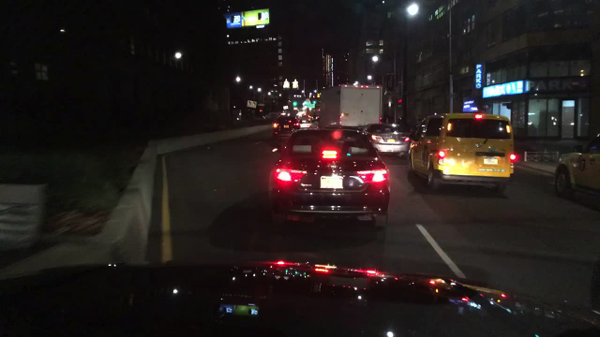car: (271, 130, 390, 228), (409, 112, 514, 195), (554, 132, 598, 209), (358, 123, 411, 158), (273, 117, 299, 135), (255, 103, 266, 116), (308, 112, 320, 123), (299, 119, 312, 129), (280, 112, 292, 117), (301, 111, 308, 118)
traffic light: (396, 97, 403, 105), (311, 99, 318, 106), (292, 101, 298, 107)
traffic sign: (245, 100, 257, 109), (282, 105, 290, 110)
truck: (318, 84, 383, 129)
